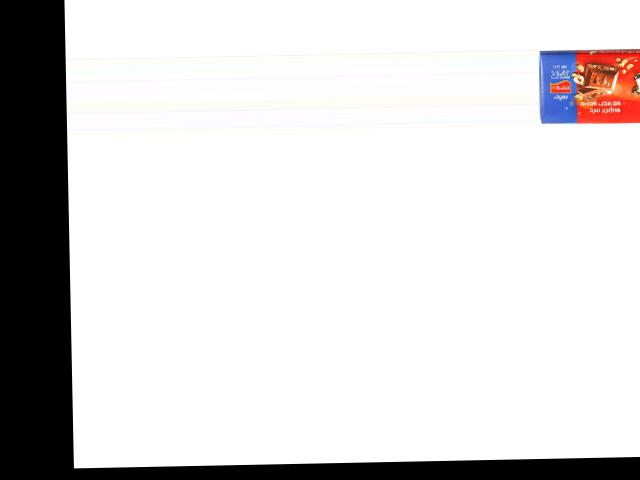chocolate: (539, 48, 640, 124)
